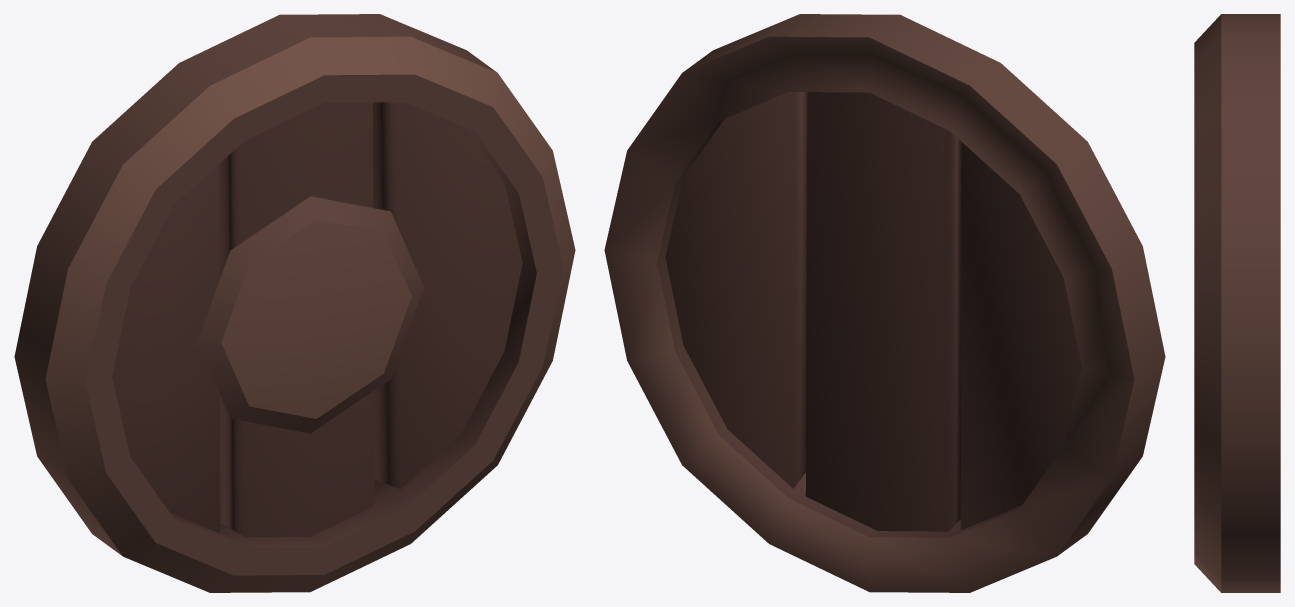
The model's file is wp cap2b.fbx.
3 views of the same model, side by side, from view 1: azimuth 30°, elevation 25°; view 2: azimuth 150°, elevation 25°; view 3: azimuth 270°, elevation 25° (orthographic). The views are drawn at different scales.
Parts seen in each view (by area): view 1: wp_cap2b; view 2: wp_cap2b; view 3: wp_cap2b.
Boxes of the visible parts, left/top/right/bottom form: wp_cap2b: left=14, top=14, right=575, bottom=592; wp_cap2b: left=604, top=14, right=1165, bottom=592; wp_cap2b: left=1194, top=14, right=1280, bottom=592.
Bounding box in the file's own units: 95.71 × 95.71 × 14.08.
Materials: 1 (1 with a texture image).
